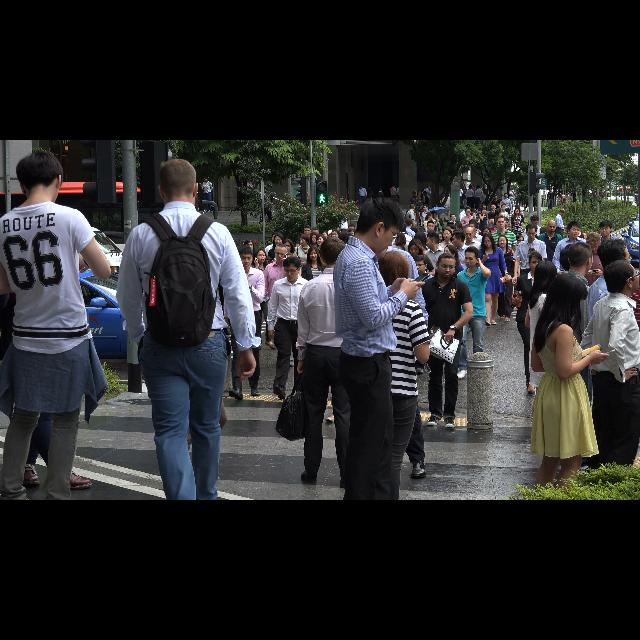head: (357, 198, 403, 256), (16, 152, 64, 206), (157, 158, 199, 206), (548, 273, 586, 321), (598, 238, 632, 276), (378, 250, 408, 288), (10, 212, 40, 242), (568, 242, 594, 274), (319, 237, 346, 267), (534, 260, 558, 290), (362, 218, 386, 248), (436, 252, 456, 280), (560, 244, 580, 272), (284, 256, 300, 282), (238, 247, 254, 270), (585, 232, 601, 254), (464, 246, 480, 268), (528, 252, 542, 272), (414, 256, 428, 274), (408, 239, 422, 257), (274, 244, 288, 262), (426, 232, 440, 250), (444, 244, 458, 260), (452, 231, 466, 247), (568, 221, 580, 239), (526, 223, 538, 240), (600, 220, 612, 236), (254, 248, 266, 264), (464, 226, 476, 242), (546, 220, 558, 234), (414, 232, 426, 246), (309, 246, 319, 262), (483, 232, 493, 248), (244, 239, 254, 253), (282, 238, 292, 252), (274, 234, 284, 246), (299, 234, 309, 246), (316, 234, 326, 246), (310, 232, 320, 244), (498, 236, 508, 248), (443, 229, 453, 241), (496, 216, 506, 228), (530, 216, 540, 228), (539, 226, 549, 238), (396, 233, 406, 244), (482, 225, 491, 237), (469, 222, 479, 232), (426, 222, 436, 232), (272, 232, 280, 244), (516, 234, 524, 246), (405, 218, 413, 230), (303, 225, 311, 235), (311, 227, 319, 237), (399, 222, 407, 232), (503, 217, 509, 227), (465, 207, 471, 215), (450, 214, 456, 222), (427, 213, 433, 221), (431, 211, 437, 219), (423, 204, 429, 212), (560, 210, 566, 217), (496, 208, 502, 215), (501, 203, 507, 210), (480, 203, 486, 210), (264, 188, 270, 194), (514, 208, 520, 214), (470, 212, 476, 218), (465, 206, 471, 212), (409, 204, 415, 210), (204, 176, 208, 182), (516, 204, 520, 210), (492, 204, 496, 210), (482, 207, 486, 213), (418, 190, 422, 196), (504, 192, 508, 198), (494, 194, 498, 200), (360, 184, 364, 188), (392, 184, 396, 188), (246, 176, 250, 180), (427, 185, 431, 189), (412, 192, 416, 196), (423, 192, 427, 196), (501, 187, 504, 191), (444, 194, 448, 196), (510, 186, 512, 190), (550, 188, 552, 192), (400, 185, 402, 188), (563, 190, 565, 193)
person: (0, 201, 106, 495), (275, 236, 377, 488), (344, 207, 431, 471), (552, 241, 612, 445), (416, 251, 479, 431), (522, 260, 572, 424), (264, 255, 320, 401), (220, 242, 268, 401), (509, 250, 559, 398), (572, 232, 618, 366), (450, 247, 494, 381), (400, 253, 442, 379), (589, 220, 631, 336), (398, 238, 438, 356), (511, 222, 549, 344), (261, 241, 299, 359), (552, 220, 590, 334), (434, 244, 472, 348), (244, 247, 280, 353), (550, 243, 584, 353), (488, 214, 522, 314), (298, 244, 330, 346), (476, 232, 510, 326), (535, 218, 569, 310), (447, 230, 478, 328), (418, 230, 449, 324), (456, 225, 486, 318), (491, 234, 522, 322), (263, 233, 291, 329), (406, 229, 436, 313), (234, 236, 260, 330), (434, 228, 462, 314), (264, 230, 290, 322), (276, 238, 302, 322), (462, 221, 488, 301), (292, 232, 316, 318), (476, 224, 500, 310), (388, 231, 414, 307), (523, 214, 549, 290), (534, 225, 558, 307), (311, 232, 333, 310), (390, 220, 414, 290), (494, 216, 516, 288), (304, 232, 326, 302), (396, 217, 418, 286), (508, 235, 530, 303), (306, 226, 326, 300), (298, 224, 316, 296), (420, 220, 440, 282), (460, 206, 478, 254), (258, 186, 276, 230), (554, 207, 570, 255), (418, 202, 434, 250), (426, 209, 442, 255), (510, 208, 526, 252), (459, 205, 473, 253), (404, 202, 418, 248), (492, 207, 506, 251), (198, 174, 214, 212), (240, 173, 256, 211), (511, 204, 525, 246), (475, 204, 489, 246), (467, 210, 481, 252), (422, 212, 436, 254), (487, 203, 501, 244), (497, 203, 511, 243), (448, 213, 460, 257), (440, 191, 456, 223), (413, 189, 427, 225), (478, 208, 490, 246), (500, 192, 512, 230), (408, 190, 420, 226), (419, 190, 431, 226), (490, 195, 502, 229), (424, 184, 434, 216), (358, 182, 368, 210), (506, 186, 516, 214), (495, 185, 505, 213), (546, 187, 556, 213), (389, 184, 398, 208), (396, 184, 404, 208), (560, 190, 568, 210)
